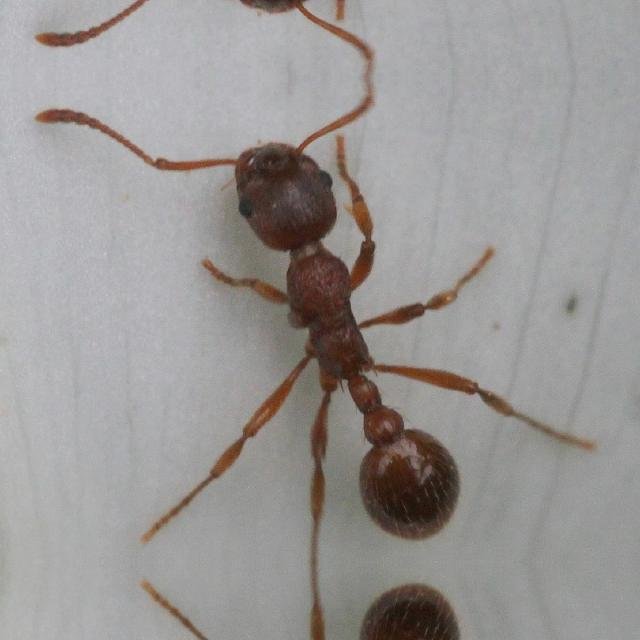Myrmica: (178, 77, 516, 553)
